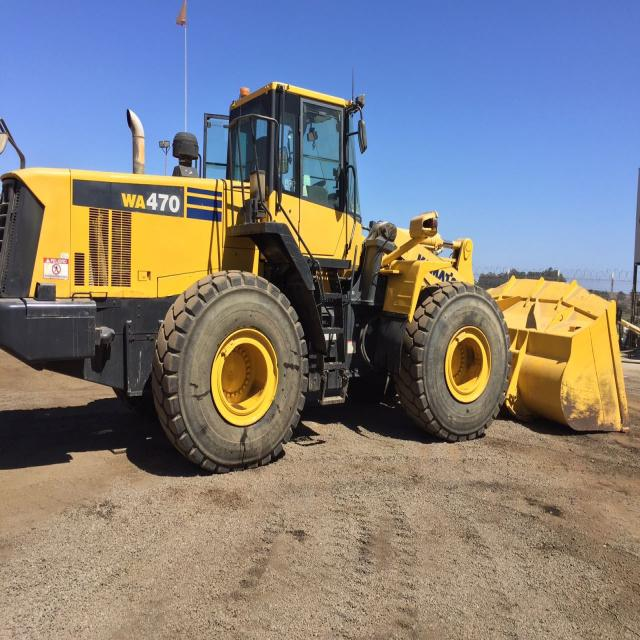buldozerpayloadergrader: (4, 59, 631, 464)
